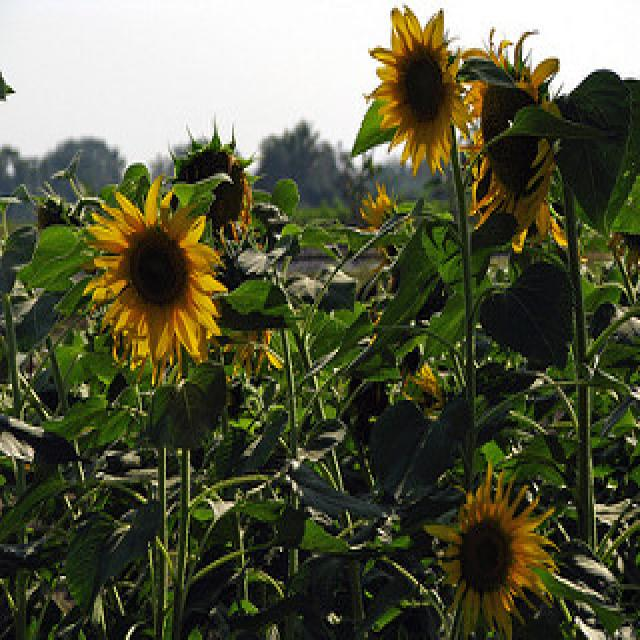sunflower: (81, 171, 227, 381), (453, 20, 573, 255), (352, 0, 472, 179), (431, 472, 557, 637)
